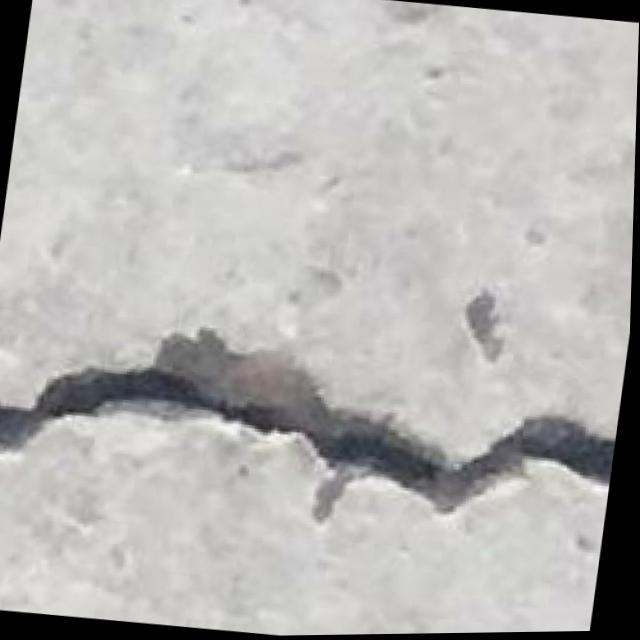Crack: (0, 303, 625, 584)
